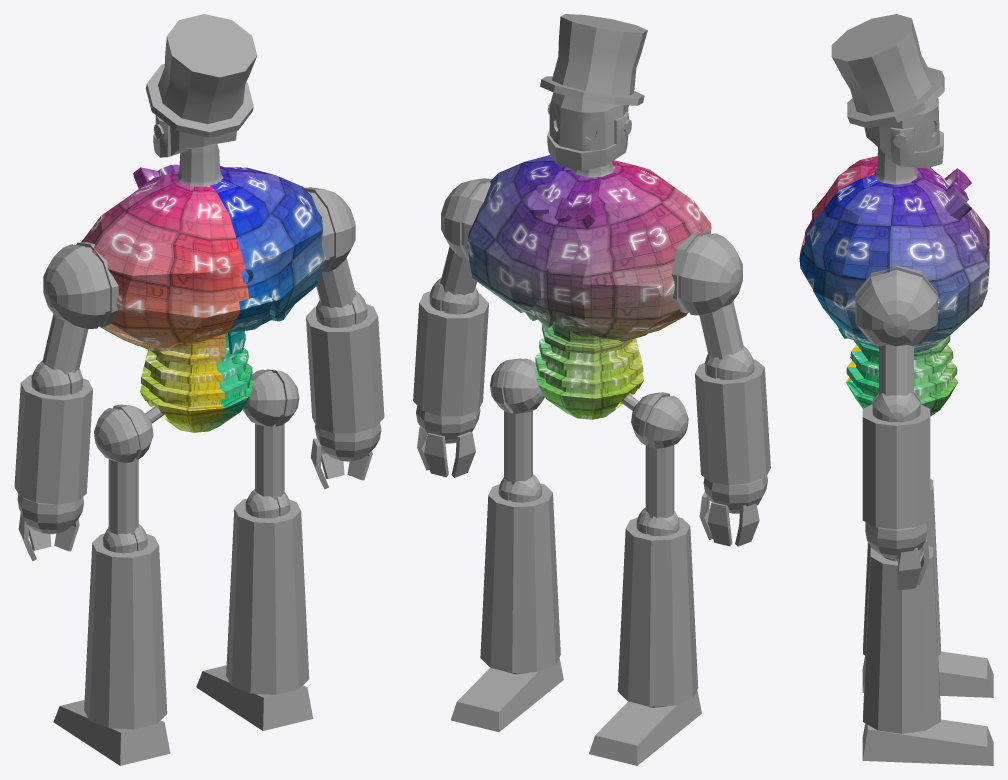
Rendered from New Robot Model (Torso UV).fbx.
3 renders of one model, left to right at view 1: azimuth 30°, elevation 25°; view 2: azimuth 150°, elevation 25°; view 3: azimuth 270°, elevation 25°, orthographic. The views are drawn at different scales.
Visible parts, largest first — view 1: polySurface22; view 2: polySurface22; view 3: polySurface22.
Boxes of the visible parts, x1,y1,x2,y2 form: polySurface22: [14, 14, 384, 765]; polySurface22: [413, 14, 770, 765]; polySurface22: [799, 14, 993, 765].
Bounding box in the file's own units: 3.99 × 7.54 × 1.91.
2 materials, 1 textured.
